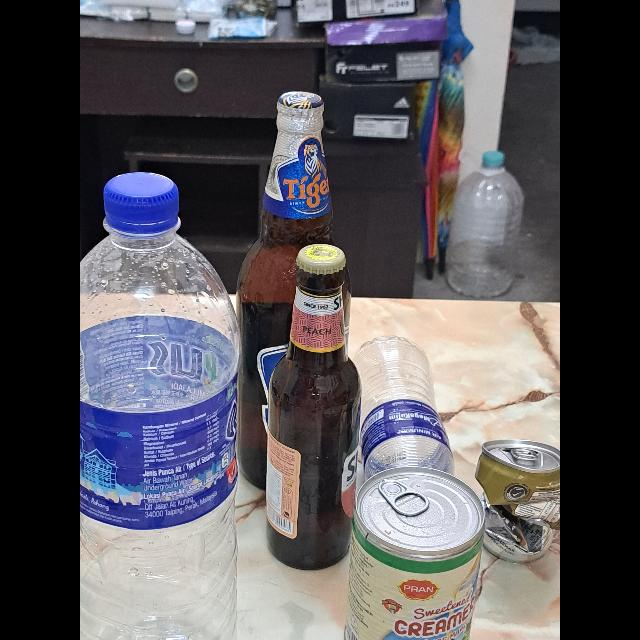aba de lata: (381, 478, 429, 522), (512, 444, 544, 466)
garrafa de vidro: (243, 88, 335, 492), (269, 242, 359, 574)
garrafa plástica: (80, 170, 238, 638), (358, 333, 452, 477)
lata: (346, 466, 484, 640), (478, 440, 560, 564)
tampa plástica: (101, 173, 185, 240)
